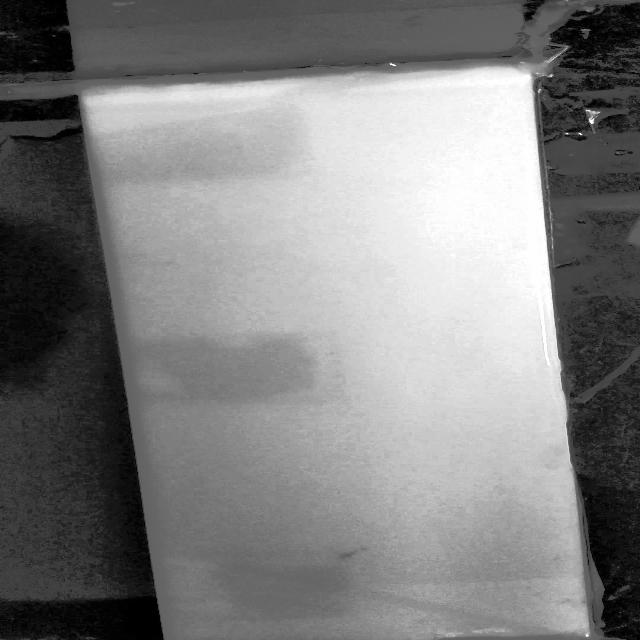shrimp: (326, 546, 372, 564)
